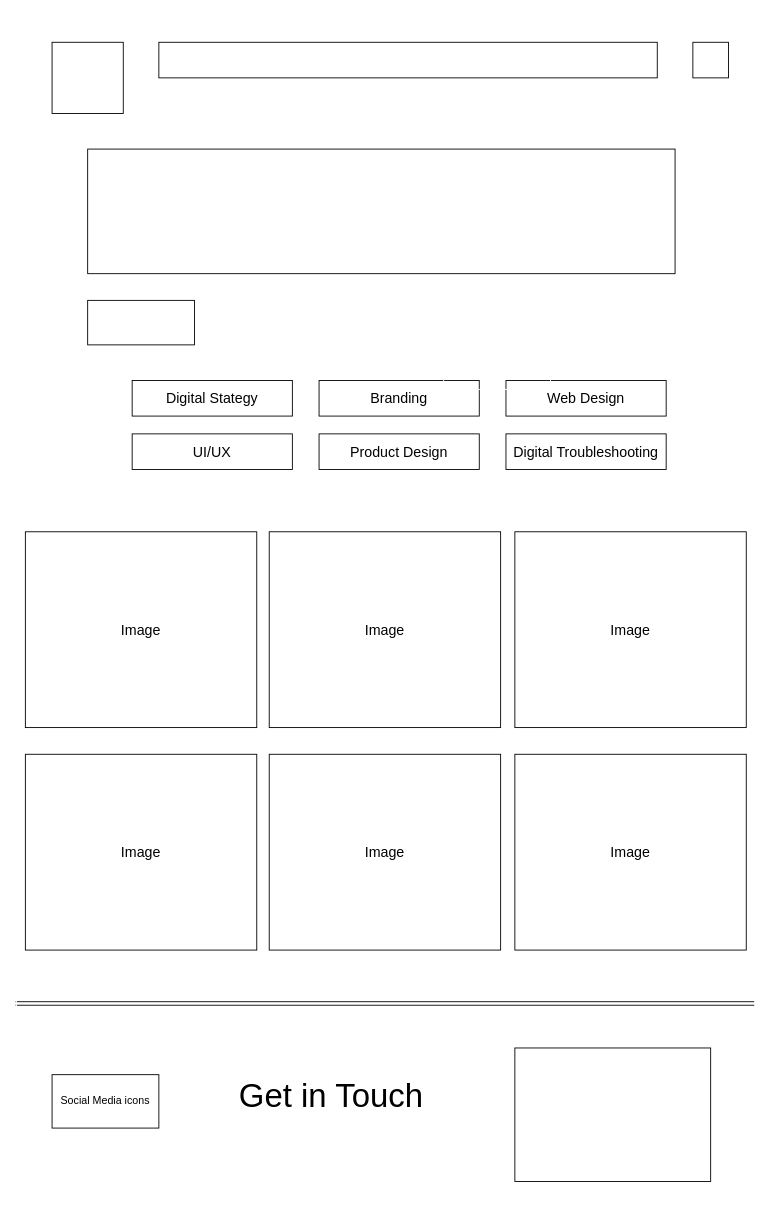
This 771x1215 diagram has some shape labels left out. The shapes that lost their labels are listed below. From the top down, each one's box as (x1, y1, x2, y2) in pixels, then its label:
(51, 41, 123, 113): Logo
(158, 41, 657, 78): Home About Portfolio Pricechecker Contact
(692, 41, 728, 78): Search
(87, 148, 675, 274): Black Rabbit Digital
(87, 299, 194, 345): H2 Portfolio
(514, 1047, 711, 1181): Mini Contact Form Name Email Submit
